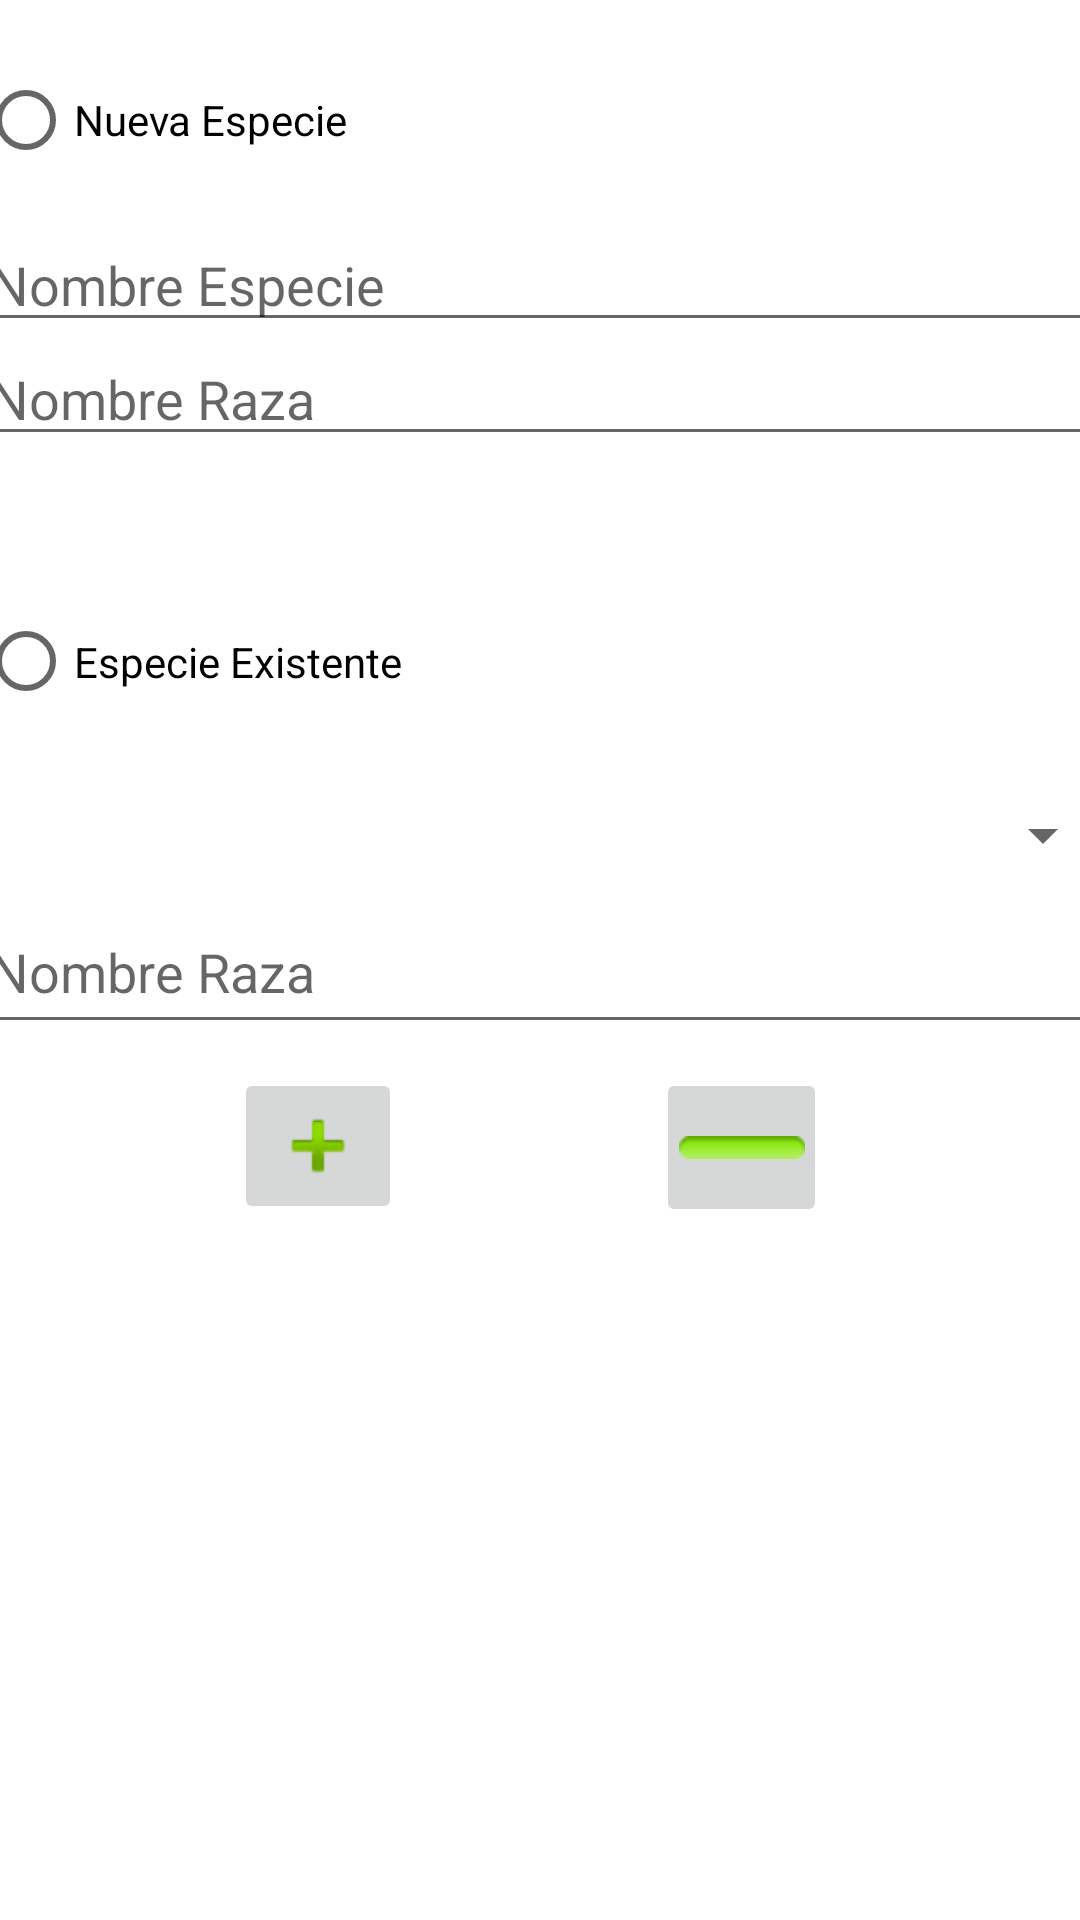

Icon click points for this 1080*1920 phone screenshot, format point (x, y):
add: point (318, 1146)
